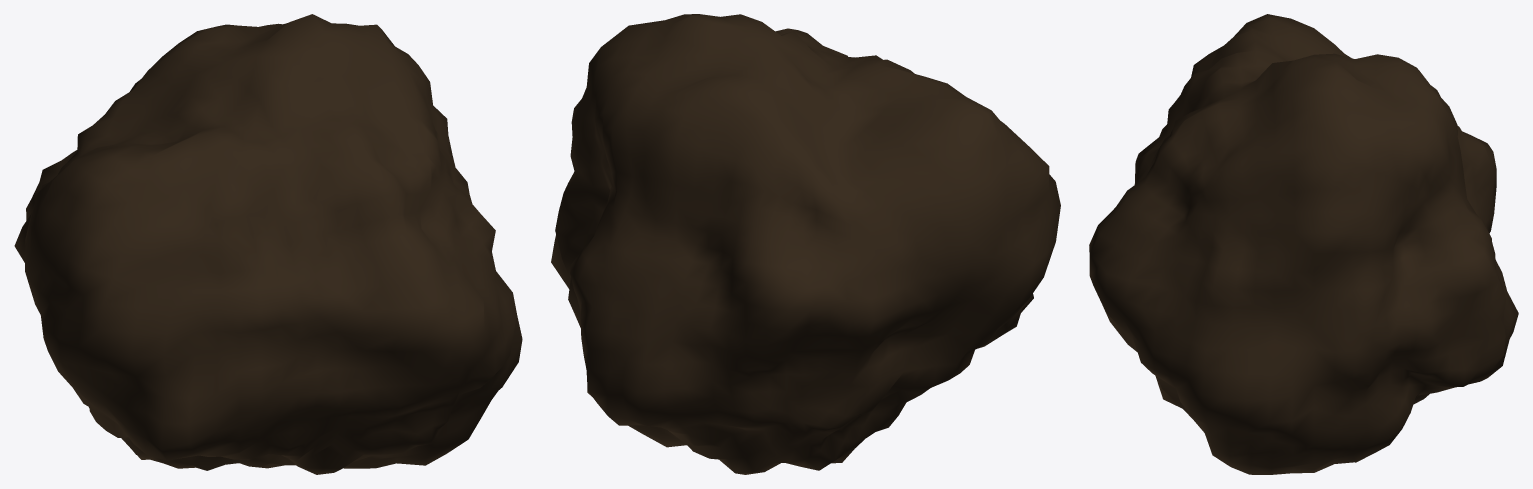
File: asteroid.obj
3 renders of one model, left to right at view 1: azimuth 30°, elevation 25°; view 2: azimuth 150°, elevation 25°; view 3: azimuth 270°, elevation 25°, orthographic. The views are drawn at different scales.
Visible parts, largest first — view 1: Cube; view 2: Cube; view 3: Cube.
Boxes of the visible parts, x1,y1,x2,y2 form: Cube: (14,14,522,474); Cube: (551,14,1060,474); Cube: (1089,14,1518,474).
Bounding box in the file's own units: 1.88 × 1.72 × 1.73.
